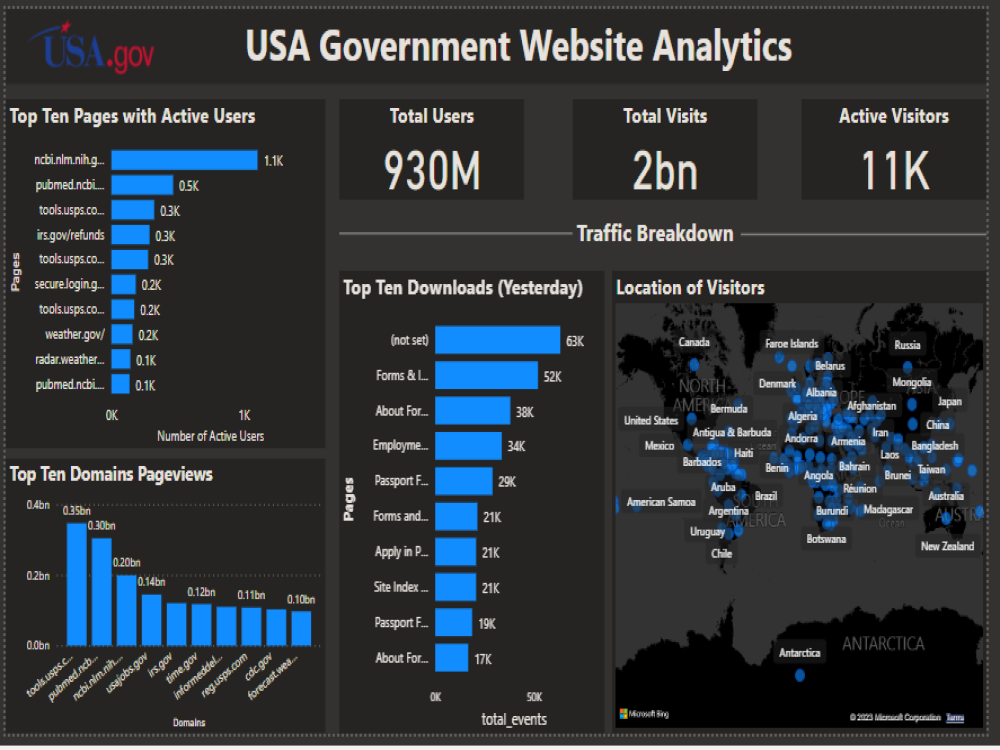

The dashboard page shown, as its layout file describes it:
{"tool":"powerbi","page":{"name":"Page 1","canvas":[1280,720],"ordinal":0},"visuals":[{"type":"shape","box":[0,0,1280,75.5],"z":0},{"type":"textbox","box":[307.4,0,736.8,73.5],"z":1000},{"type":"image","box":[23.5,0,175,73.5],"z":2000},{"type":"card","title":"Total Users","fields":{"Values":["Sum(all-domains-30-days.users)"]},"box":[435.7,90,241.4,100],"z":3000},{"type":"card","title":"Total Visits","fields":{"Values":["Sum(all-domains-30-days.visits)"]},"box":[740,90,241.4,100],"z":4000},{"type":"card","title":"Active Visitors","fields":{"Values":["Sum(all-pages-realtime.active_visitors)"]},"box":[1038.8,90.3,241.2,100.1],"z":5000},{"type":"shape","box":[958.6,190,321.4,68.6],"z":6000},{"type":"textbox","box":[740,200,241.4,48.6],"z":7000},{"type":"shape","box":[435.7,190,304.3,67.1],"z":8000},{"type":"map","title":"Location of Visitors","fields":{"Category":["Visitors_per_country.data.country"]},"box":[791,260,489,460],"z":9000},{"type":"barChart","title":"Top Ten Downloads (Yesterday)","fields":{"Category":["top-downloads-yesterday.page_title"],"Y":["Sum(top-downloads-yesterday.total_events)"]},"box":[435.7,260,345.7,460],"z":10000},{"type":"clusteredColumnChart","title":"Top Ten Domains Pageviews","fields":{"Category":["all-domains-30-days.domain"],"Y":["Sum(all-domains-30-days.pageviews)"]},"box":[0,447.1,417.1,272.9],"z":11000},{"type":"barChart","title":"Top Ten Pages with Active Users","fields":{"Category":["all-pages-realtime.page"],"Y":["Sum(all-pages-realtime.active_visitors)"]},"box":[0,90,417.1,347.1],"z":11001}]}

Visuals, with their boxes on the page's 1280x720 design canvas (x1, y1, x2, y2). These are canvas units, not pixel positions in the 1000x750 screenshot, which may show the page scaled, cropped or inside an application window:
shape: detection(0, 0, 1280, 76)
textbox: detection(307, 0, 1044, 74)
image: detection(24, 0, 198, 74)
"Total Users" card: detection(436, 90, 677, 190)
"Total Visits" card: detection(740, 90, 981, 190)
"Active Visitors" card: detection(1039, 90, 1280, 190)
shape: detection(959, 190, 1280, 259)
textbox: detection(740, 200, 981, 249)
shape: detection(436, 190, 740, 257)
"Location of Visitors" map: detection(791, 260, 1280, 720)
"Top Ten Downloads (Yesterday)" barChart: detection(436, 260, 781, 720)
"Top Ten Domains Pageviews" clusteredColumnChart: detection(0, 447, 417, 720)
"Top Ten Pages with Active Users" barChart: detection(0, 90, 417, 437)
